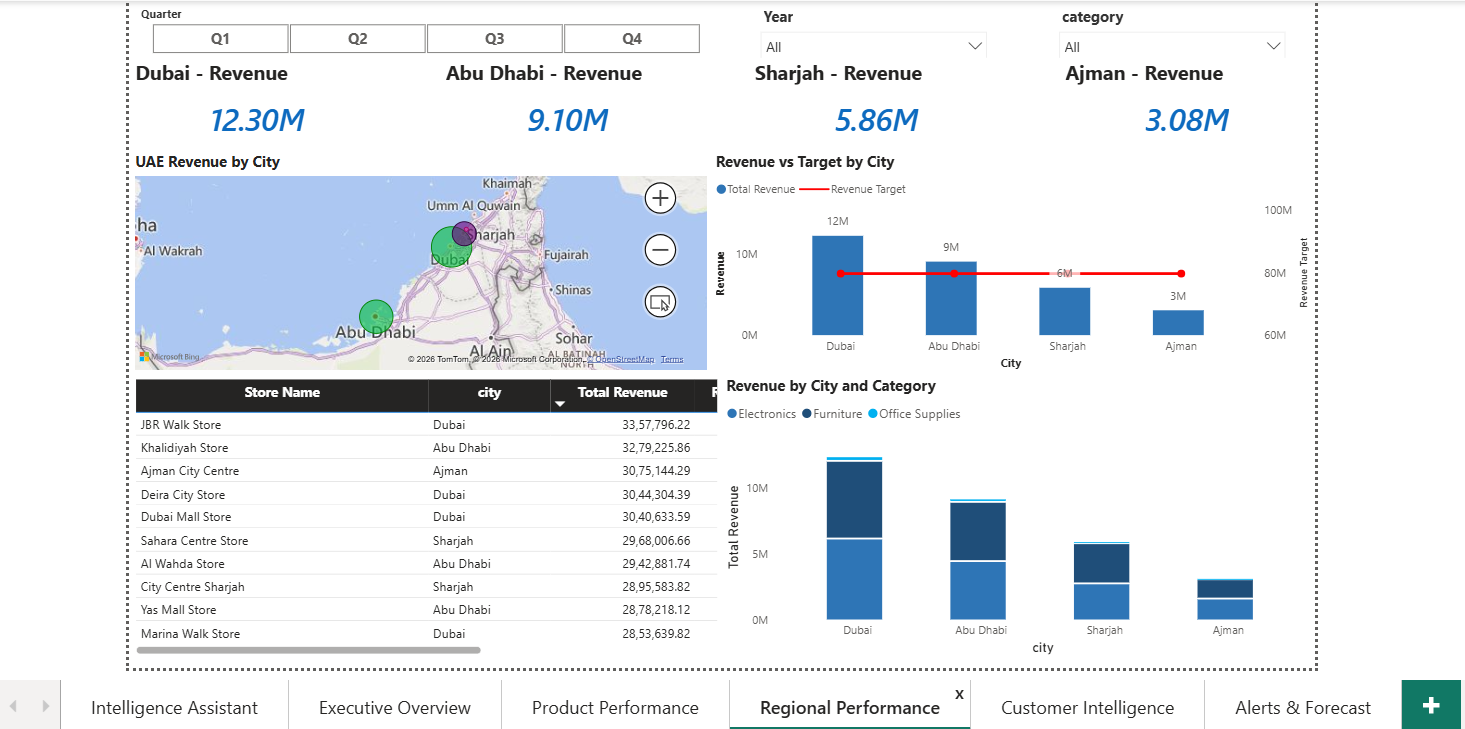

What the dashboard file says about the page in this screenshot:
{"tool":"powerbi","page":{"name":"Regional Performance","canvas":[1280,720],"ordinal":3},"visuals":[{"type":"map","title":"UAE Revenue by City","fields":{"Category":["Dim_Store.city"],"Size":["Fact_Sales.Total Revenue"]},"box":[1.4,161.4,627.1,241.4],"z":0},{"type":"lineClusteredColumnComboChart","title":"Revenue vs Target by City","fields":{"Category":["Dim_Store.city"],"Y":["Fact_Sales.Total Revenue"],"Y2":["Dim_Budget_Targets.Revenue Target"]},"box":[628.6,161.4,650,241.4],"z":1000},{"type":"tableEx","fields":{"Values":["Dim_Store.store_name","Dim_Store.city","Fact_Sales.Total Revenue","Dim_Budget_Targets.Revenue Target","Dim_Budget_Targets.Revenue vs Target %","Dim_Budget_Targets.Revenue Status"]},"box":[1.4,402.9,638.6,307.1],"z":2000},{"type":"columnChart","title":"Revenue by City and Category","fields":{"Category":["Dim_Store.city"],"Y":["Fact_Sales.Total Revenue"],"Series":["Dim_Product.category"]},"box":[640,402.9,638.6,307.1],"z":3000},{"type":"cardVisual","title":"Dubai - Revenue","fields":{"Data":["Fact_Sales.Total Revenue"]},"box":[1.4,61.4,274.3,100],"z":4000},{"type":"cardVisual","title":"Abu Dhabi - Revenue","fields":{"Data":["Fact_Sales.Total Revenue"]},"box":[336.2,61.4,274.3,100],"z":5000},{"type":"cardVisual","title":"Sharjah - Revenue","fields":{"Data":["Fact_Sales.Total Revenue"]},"box":[671,61.4,274.3,100],"z":6000},{"type":"cardVisual","title":"Ajman - Revenue","fields":{"Data":["Fact_Sales.Total Revenue"]},"box":[1005.7,61.4,274.3,100],"z":7000},{"type":"slicer","fields":{"Values":["Dim_Date.Quarter_KPI"]},"box":[0,0,640,62.9],"z":8000},{"type":"slicer","fields":{"Values":["Dim_Date.year"]},"box":[671.4,0,264.3,61.4],"z":9000},{"type":"slicer","fields":{"Values":["Dim_Product.category"]},"box":[994.3,0,264.3,61.4],"z":10000}]}

Visuals, with their boxes on the page's 1280x720 design canvas (x1, y1, x2, y2). These are canvas units, not pixel positions in the 1465x729 screenshot, which may show the page scaled, cropped or inside an application window:
"UAE Revenue by City" map: x1=1, y1=161, x2=628, y2=403
"Revenue vs Target by City" lineClusteredColumnComboChart: x1=629, y1=161, x2=1279, y2=403
tableEx - Dim_Store.store_name x Dim_Store.city: x1=1, y1=403, x2=640, y2=710
"Revenue by City and Category" columnChart: x1=640, y1=403, x2=1279, y2=710
"Dubai - Revenue" cardVisual: x1=1, y1=61, x2=276, y2=161
"Abu Dhabi - Revenue" cardVisual: x1=336, y1=61, x2=610, y2=161
"Sharjah - Revenue" cardVisual: x1=671, y1=61, x2=945, y2=161
"Ajman - Revenue" cardVisual: x1=1006, y1=61, x2=1280, y2=161
slicer - Dim_Date.Quarter_KPI: x1=0, y1=0, x2=640, y2=63
slicer - Dim_Date.year: x1=671, y1=0, x2=936, y2=61
slicer - Dim_Product.category: x1=994, y1=0, x2=1259, y2=61
